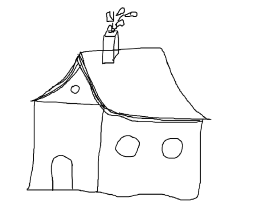door: (49, 149, 77, 194)
open_window: (109, 133, 145, 158), (159, 135, 186, 168)
roof: (33, 37, 218, 130)
smoking_chimney: (96, 1, 142, 70)
wall: (98, 113, 204, 199), (25, 97, 107, 195)
